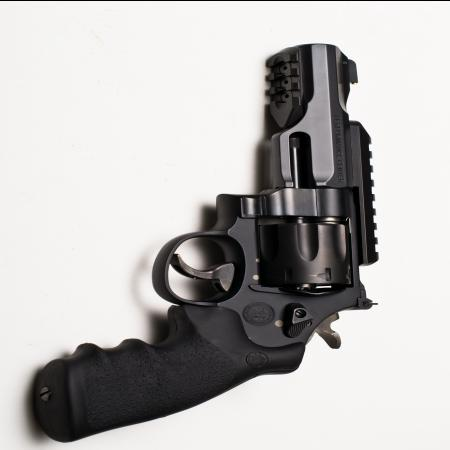Pistol: (27, 40, 385, 442)
